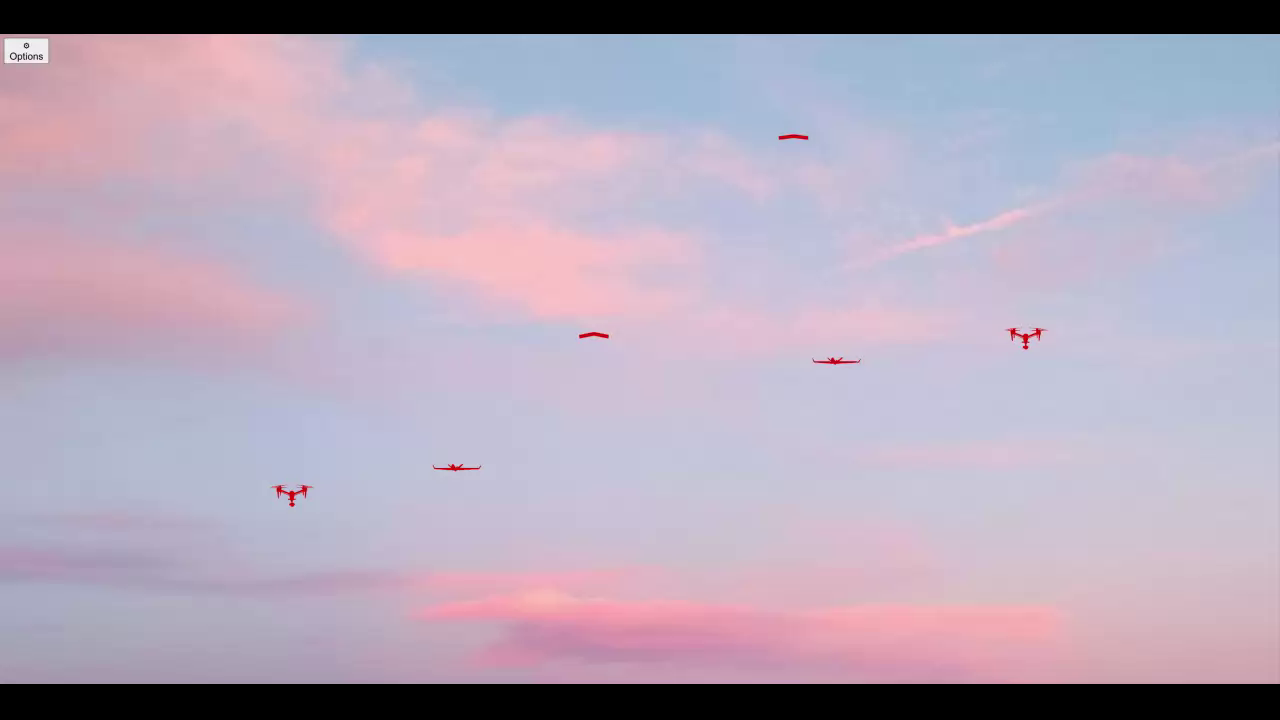Bird: (760, 125, 823, 154), (573, 316, 616, 349)
Drone: (422, 447, 488, 486), (805, 344, 875, 377)
Quadcopter: (259, 476, 323, 512), (999, 322, 1052, 355)
